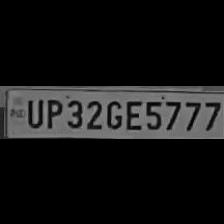2: (84, 96, 102, 130)
3: (64, 96, 82, 128)
5: (142, 97, 162, 131)
7: (180, 99, 200, 131), (200, 99, 220, 131), (164, 97, 181, 130)
E: (123, 96, 141, 132)
G: (104, 97, 122, 131)
P: (44, 96, 62, 128)
U: (24, 96, 42, 128)
